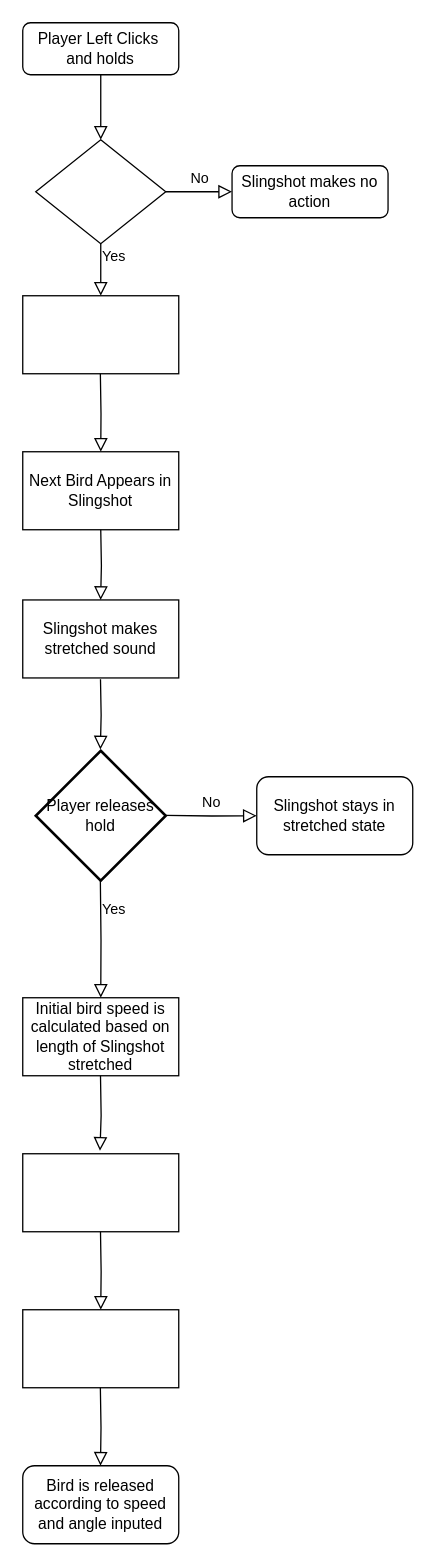
This 435x1567 diagram has some shape labels left out. The centre of each missing label's shape, as x and y in pixels:
"Angle of projection is calculated" belongs at point 100,1192.
"Bird counter is reduced by 1" belongs at point 100,1348.
"Elastic Bands Stretches to click location" belongs at point 100,334.
"Is Click close to Slingshot?" belongs at point 100,191.
